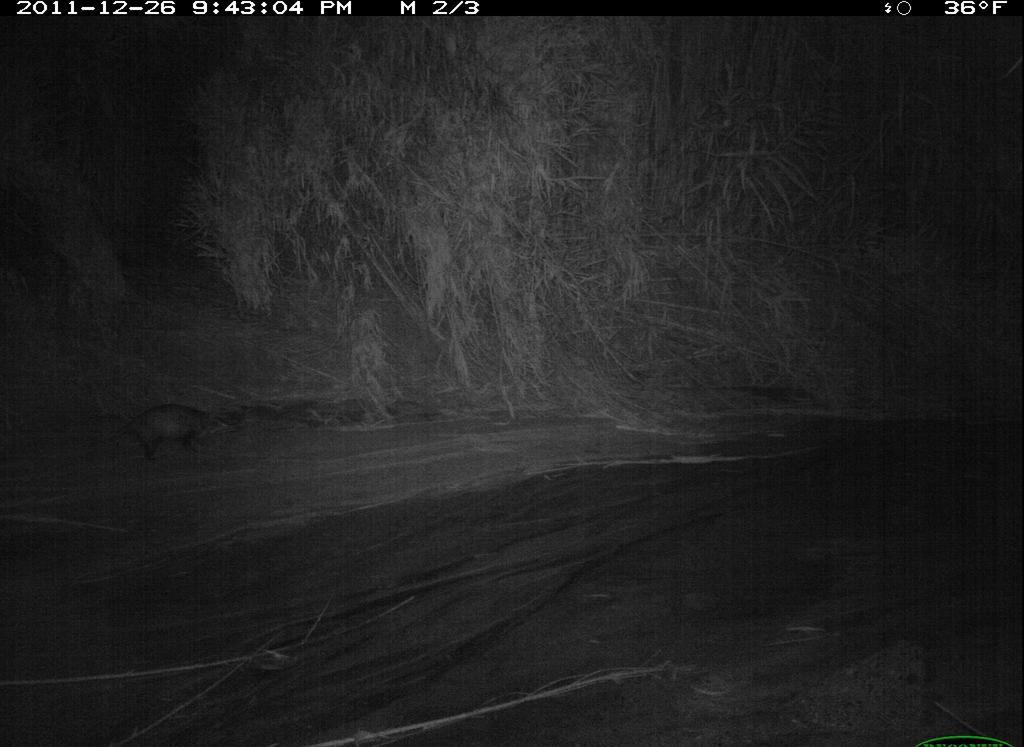opossum: (97, 390, 242, 487)
